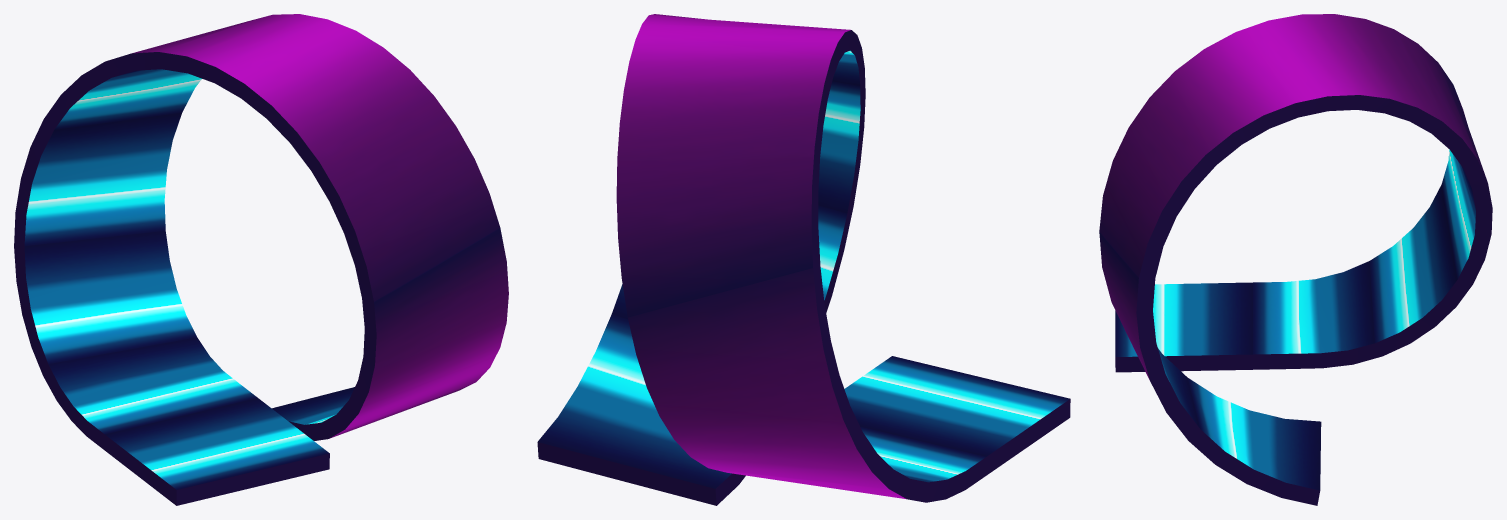
File: urban_loop.gltf
3 views of the same model, side by side, from view 1: azimuth 30°, elevation 25°; view 2: azimuth 150°, elevation 25°; view 3: azimuth 270°, elevation 25° (orthographic). The views are drawn at different scales.
Visible parts, largest first — view 1: urban_loop_glb; view 2: urban_loop_glb; view 3: urban_loop_glb.
Part boxes in pixels (box(x1,y1,x2,y2)): urban_loop_glb: box(14, 14, 508, 505); urban_loop_glb: box(537, 14, 1070, 505); urban_loop_glb: box(1099, 14, 1492, 505).
Size of what is drawn, in the model's own units: 4.87 by 5.27 by 4.93.
1 material, 1 textured.
